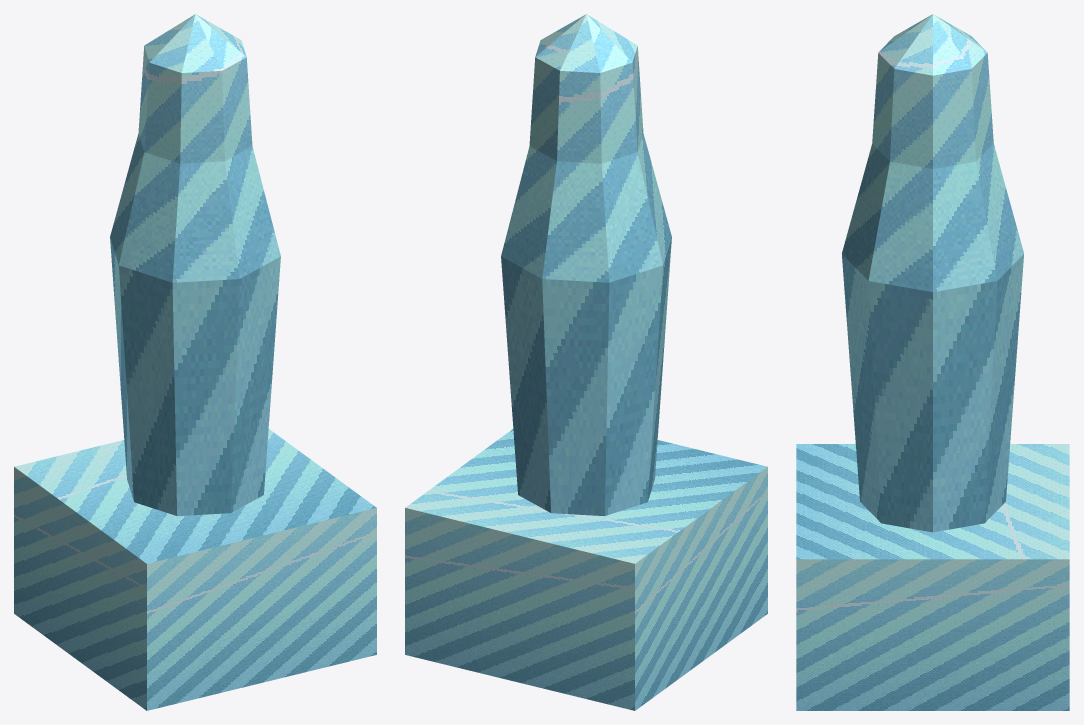
Rendered from estatua_de_gelo.glb.
The picture shows the model from 3 angles, left to right: view 1: azimuth 30°, elevation 25°; view 2: azimuth 150°, elevation 25°; view 3: azimuth 270°, elevation 25°; orthographic projection. The views are drawn at different scales.
Visible parts, largest first — view 1: estatua_de_gelo; view 2: estatua_de_gelo; view 3: estatua_de_gelo.
Boxes of the visible parts, x1,y1,x2,y2 form: estatua_de_gelo: [14, 14, 376, 710]; estatua_de_gelo: [405, 14, 767, 710]; estatua_de_gelo: [796, 14, 1069, 710].
Bounding box in the file's own units: 0.9 × 2.32 × 0.9.
1 material, 1 textured.
